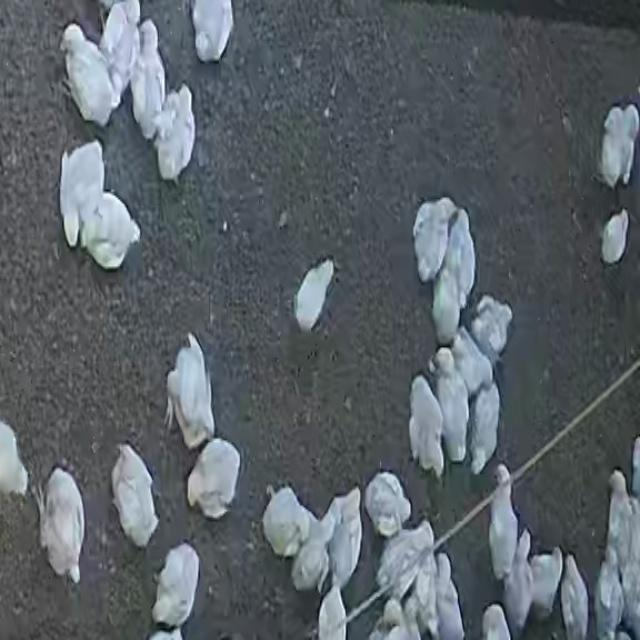chicken: (155, 331, 219, 448), (62, 22, 119, 130), (38, 466, 86, 582), (58, 141, 105, 251), (110, 445, 160, 548), (150, 542, 200, 634), (81, 192, 140, 268), (132, 20, 169, 139), (187, 439, 242, 518), (153, 86, 197, 183), (432, 350, 469, 464), (99, 1, 140, 92), (597, 102, 640, 188), (408, 374, 444, 476), (488, 468, 520, 580), (262, 486, 312, 557), (325, 493, 361, 589), (290, 256, 336, 331), (467, 381, 501, 476), (364, 471, 411, 538), (413, 194, 451, 275), (449, 208, 483, 298), (504, 532, 535, 630), (605, 472, 634, 575), (433, 555, 467, 640), (526, 543, 562, 623), (593, 543, 623, 638), (189, 1, 234, 62), (469, 298, 513, 360), (559, 556, 590, 639), (432, 265, 464, 345), (452, 329, 491, 390), (602, 209, 630, 265)
